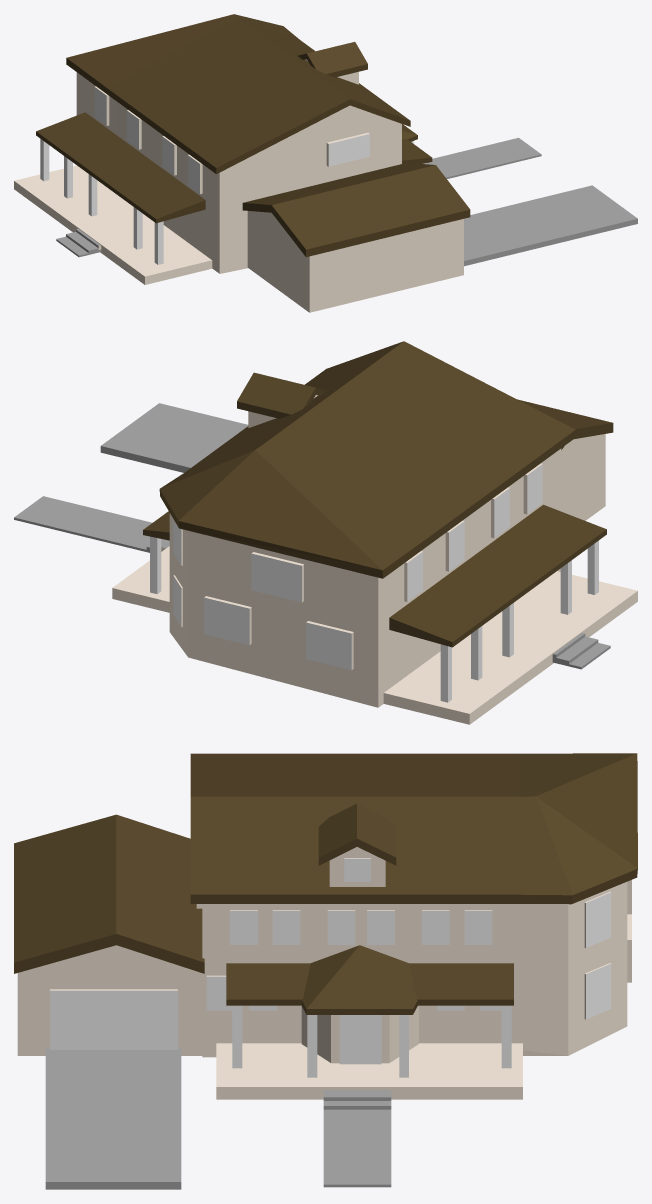
File: hows.fbx
The picture shows the model from 3 angles, top to bottom: view 1: azimuth 30°, elevation 25°; view 2: azimuth 150°, elevation 25°; view 3: azimuth 270°, elevation 25°; orthographic projection. The views are drawn at different scales.
Visible parts, largest first — view 1: hows; view 2: hows; view 3: hows.
Boxes of the visible parts, left/top/right/bottom form: hows: left=14, top=14, right=637, bottom=312; hows: left=14, top=341, right=637, bottom=724; hows: left=14, top=753, right=637, bottom=1189.
Bounding box in the file's own units: 212 × 68.36 × 169.
